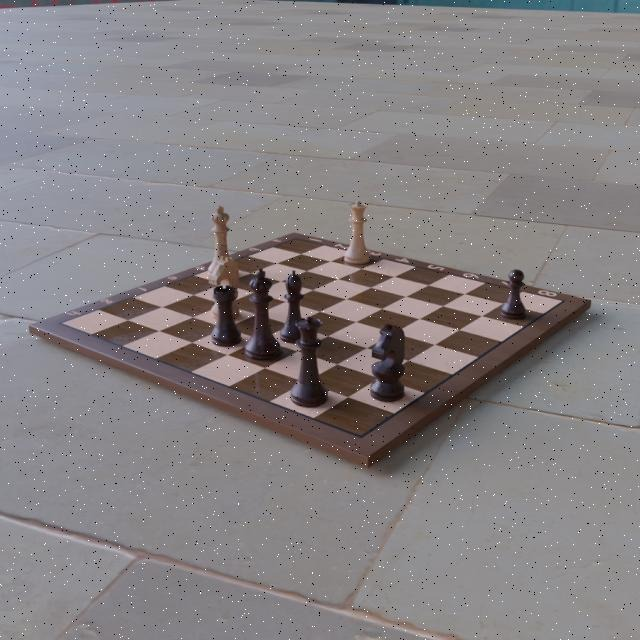black-bishop: (277, 269, 307, 345)
black-king: (244, 267, 282, 361)
black-knight: (369, 323, 407, 405)
black-pawn: (499, 267, 527, 321)
black-rook: (210, 282, 241, 348)
white-king: (207, 204, 233, 280)
white-knight: (208, 254, 244, 320)
white-queen: (290, 313, 330, 409), (344, 198, 372, 265)
